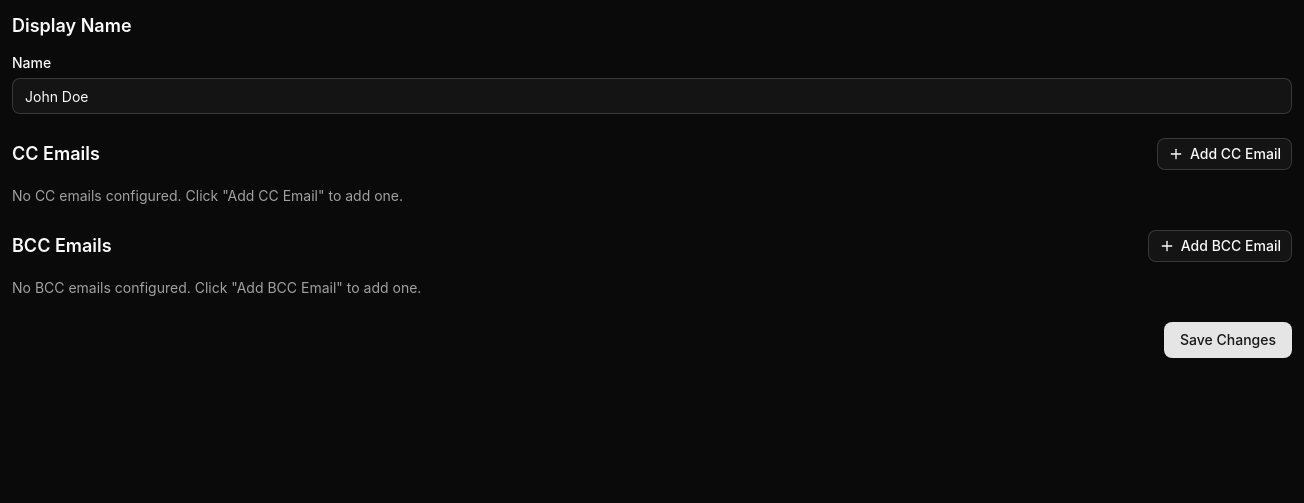
Test: ProfileForm › Dynamic Email Fields › can add and remove multiple email fields
Add 2 CC and 2 BCC emails
Click the button "Add CC Email": (1224, 154) [1157,138,1292,170]
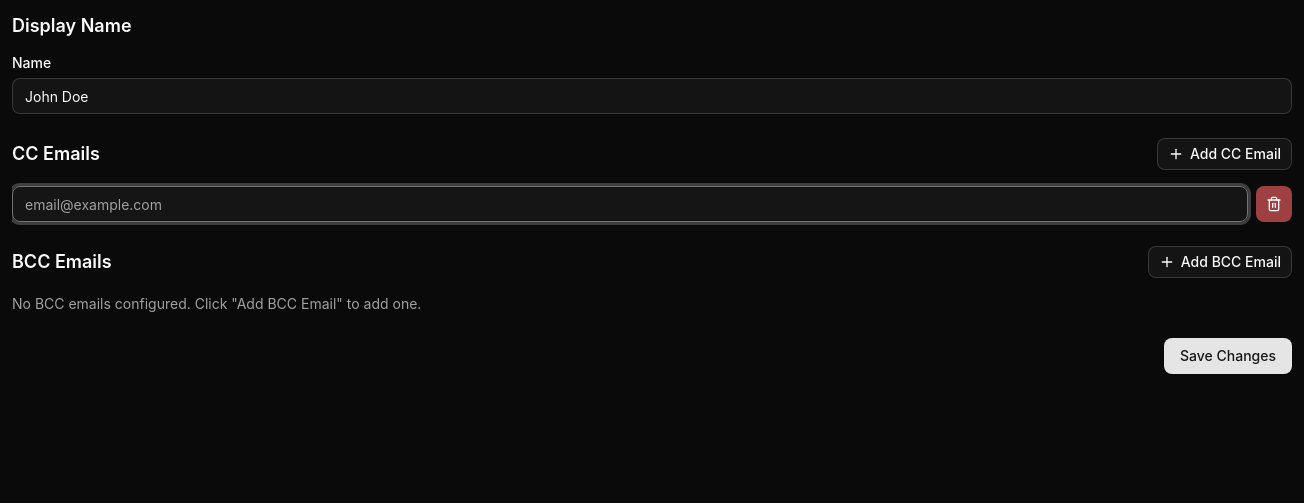
Click the button "Add CC Email": (1224, 154) [1157,138,1292,170]
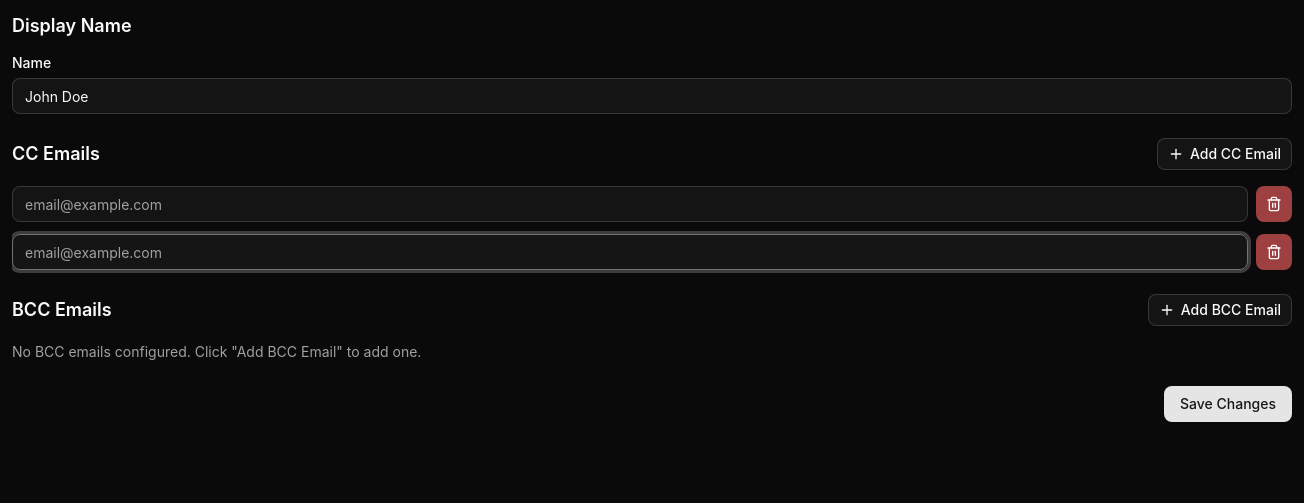
Click the button "Add BCC Email": (1220, 310) [1148,294,1292,326]
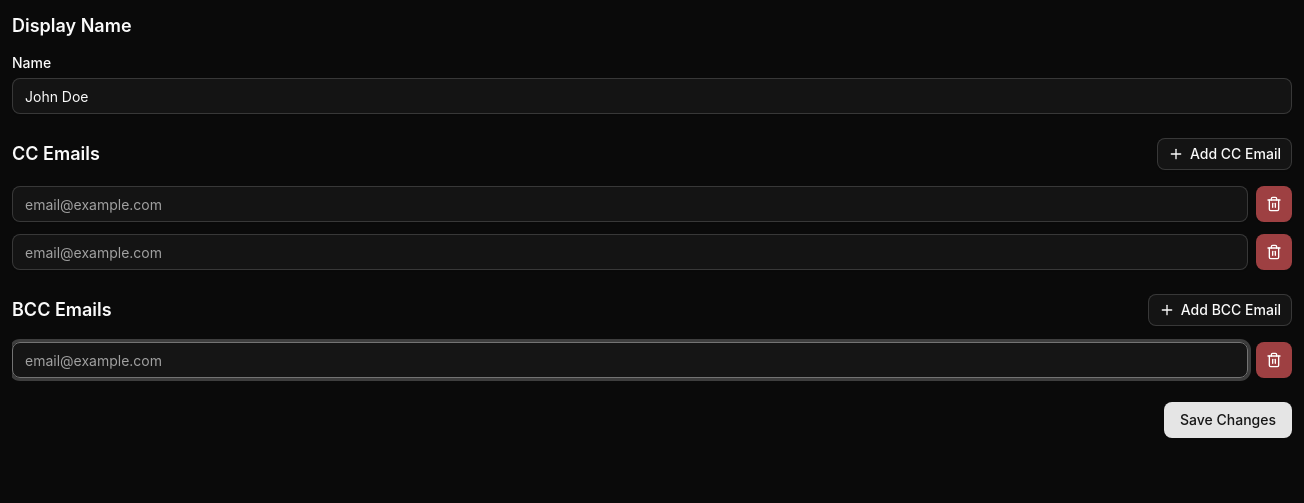
Click the button "Add BCC Email": (1220, 310) [1148,294,1292,326]
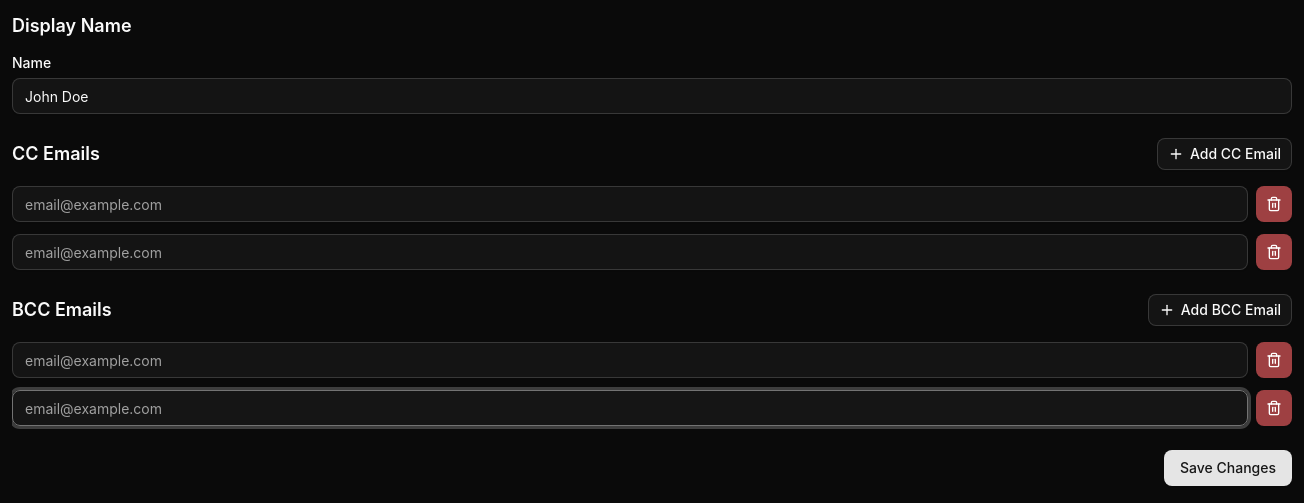
Expected: the number of fields with placeholder "email@example.com" is 4, [12,186,1248,222]; [12,234,1248,270]; [12,342,1248,378]; [12,390,1248,426]
Remove one CC email
Click the button named "Remove CC email 1": (1274, 204) [1256,186,1292,222]
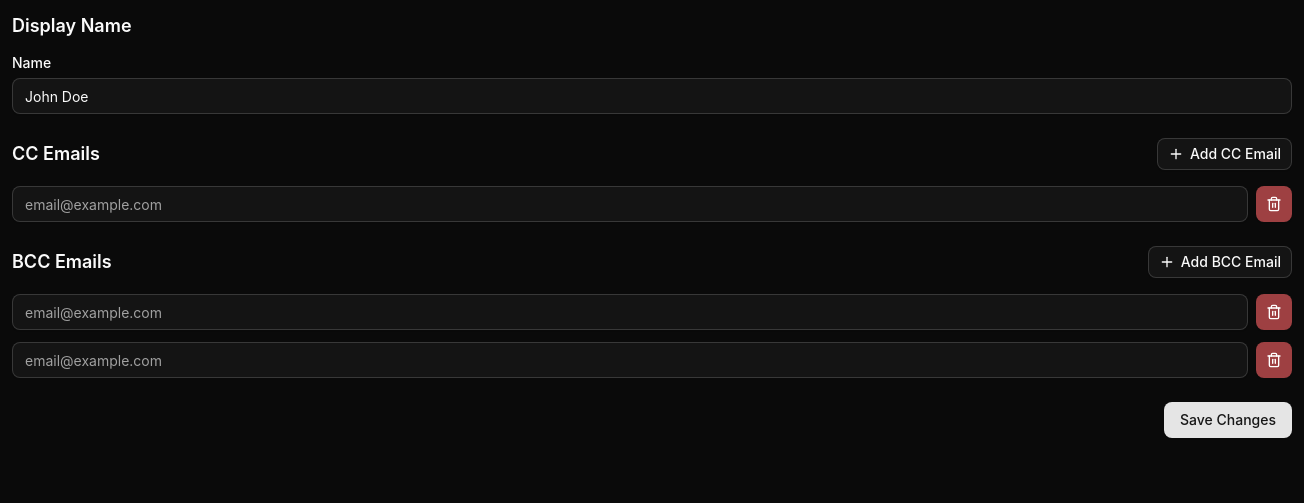
Expected: the number of fields with placeholder "email@example.com" is 3, [12,186,1248,222]; [12,294,1248,330]; [12,342,1248,378]
